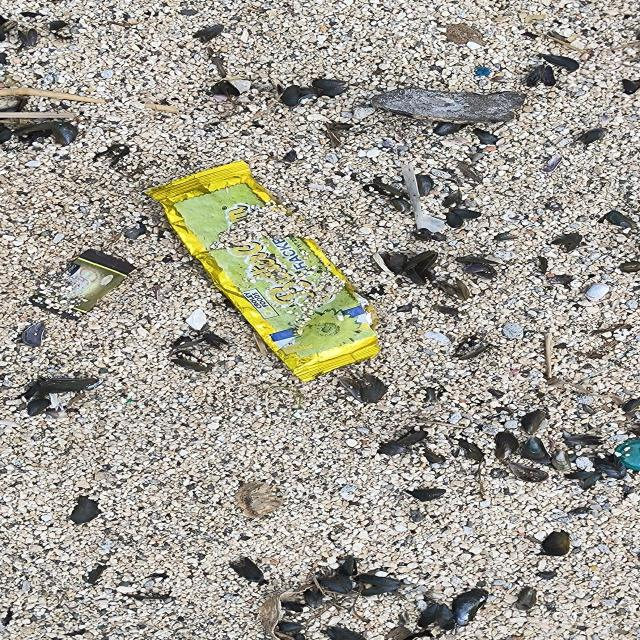plastic_waste: (141, 160, 385, 383)
